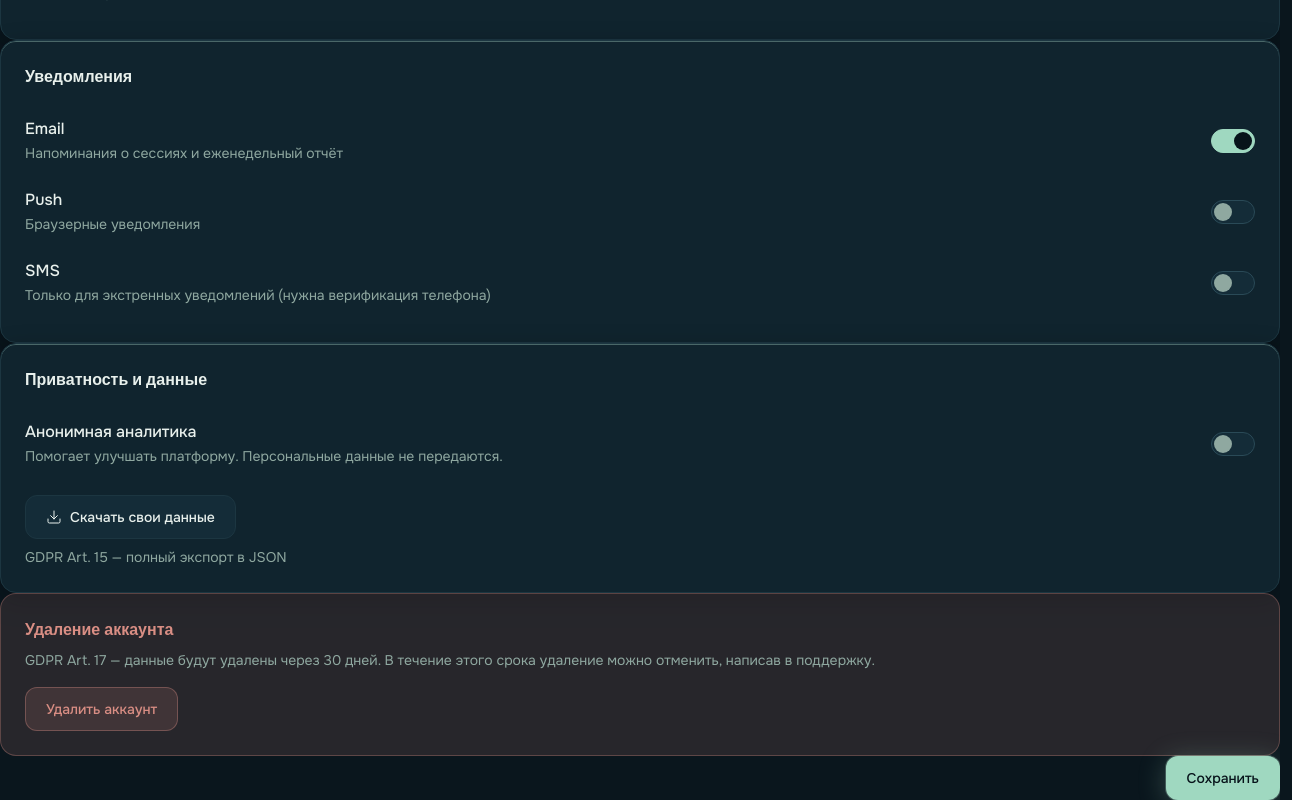
it: SettingsPage (#150) › сохранение › ошибка → role=alert «Ошибка сохранения»
The width and height of the screenshot is (1292, 800).
(page scrolled)
Click the button "Сохранить" at (1223, 778), box [1166,756,1280,799]
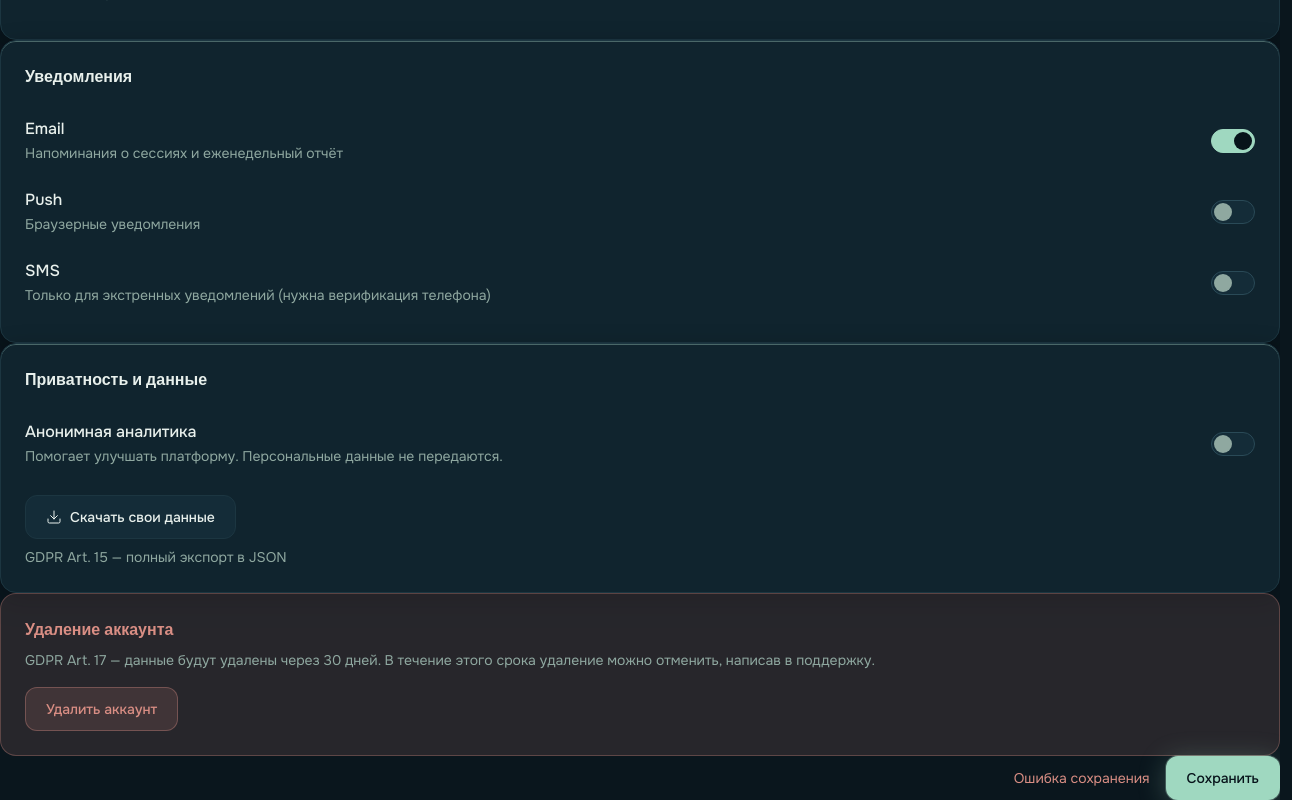
Expected: the message reads "Ошибка сохранения", [1014,769,1150,787]
